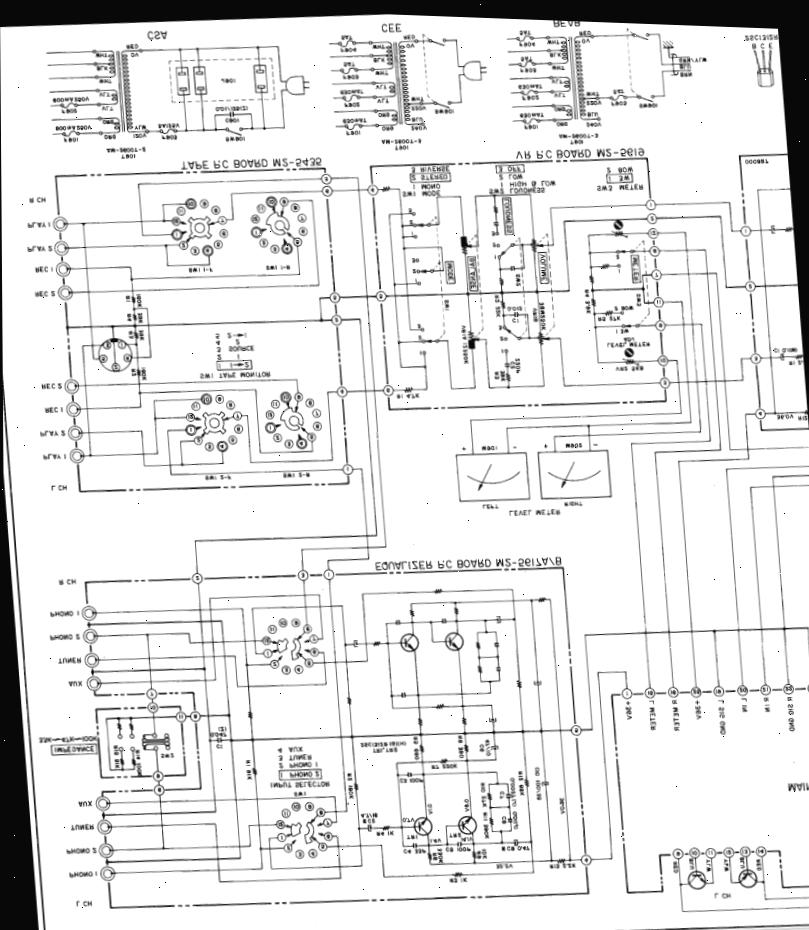compo_name: (503, 503, 564, 526), (599, 332, 648, 357), (776, 767, 809, 803), (663, 694, 686, 739), (60, 839, 101, 864), (591, 181, 644, 200), (229, 364, 274, 386), (709, 694, 732, 737), (778, 691, 800, 735), (41, 602, 81, 626), (555, 127, 602, 147), (623, 250, 646, 289), (257, 256, 296, 279), (198, 467, 236, 490), (378, 132, 421, 151), (641, 698, 661, 737), (610, 360, 647, 381), (32, 423, 69, 444), (54, 119, 92, 139), (182, 260, 216, 282), (107, 141, 148, 159), (354, 738, 400, 754), (507, 175, 559, 189), (275, 467, 313, 486), (63, 866, 101, 885), (754, 686, 775, 720), (532, 253, 551, 290), (20, 240, 55, 260), (409, 169, 450, 186), (20, 215, 53, 236), (543, 858, 579, 877), (222, 340, 260, 358), (34, 447, 68, 467), (739, 29, 778, 46), (28, 284, 59, 305), (768, 341, 802, 360), (43, 629, 80, 646), (51, 652, 83, 671), (594, 310, 626, 329), (606, 299, 638, 318), (35, 377, 65, 397), (575, 289, 595, 319), (63, 819, 96, 837), (739, 155, 772, 173), (687, 696, 706, 727), (733, 693, 753, 722), (37, 401, 66, 421), (333, 84, 365, 102), (390, 390, 423, 407), (507, 184, 547, 198), (293, 777, 330, 792), (121, 289, 145, 312), (409, 163, 451, 176), (117, 309, 147, 327), (474, 734, 494, 761), (617, 698, 636, 726), (125, 364, 149, 386), (366, 746, 401, 761), (505, 775, 520, 810), (406, 731, 422, 763), (338, 114, 368, 131), (238, 756, 255, 786), (496, 844, 532, 858), (545, 20, 581, 34), (394, 775, 425, 791), (107, 741, 123, 772), (515, 109, 546, 125), (205, 721, 229, 741), (607, 324, 635, 341), (28, 261, 54, 279), (429, 760, 460, 775), (443, 874, 470, 891), (71, 795, 95, 814), (285, 768, 320, 781), (355, 809, 380, 827), (455, 345, 473, 370), (515, 92, 543, 108), (284, 759, 318, 772), (265, 779, 292, 795), (559, 498, 586, 514), (560, 438, 587, 454), (772, 412, 800, 427), (154, 117, 182, 132), (398, 846, 426, 861), (127, 327, 147, 348), (490, 860, 516, 876), (222, 329, 248, 345), (411, 179, 443, 192), (283, 750, 315, 763), (552, 793, 567, 820), (444, 843, 471, 858), (129, 747, 145, 772), (192, 367, 215, 384), (55, 104, 81, 119), (57, 134, 81, 150), (214, 368, 238, 384), (431, 106, 456, 121), (475, 440, 500, 455), (635, 99, 660, 114), (781, 356, 804, 372), (220, 134, 246, 148), (535, 302, 548, 330), (377, 24, 403, 38), (159, 729, 174, 753), (396, 187, 420, 202), (580, 118, 604, 133), (417, 189, 441, 204), (428, 844, 444, 866), (604, 99, 629, 113), (513, 38, 538, 52), (283, 743, 306, 758), (801, 690, 809, 733), (371, 830, 397, 843), (335, 44, 359, 58), (477, 502, 501, 516), (457, 794, 471, 818), (507, 809, 521, 833), (25, 193, 49, 207), (46, 481, 68, 496), (454, 732, 466, 759), (340, 128, 363, 142), (96, 131, 119, 145), (518, 122, 541, 136), (516, 769, 527, 798), (488, 371, 509, 386), (338, 100, 362, 113), (405, 123, 429, 136), (337, 71, 361, 84), (510, 270, 524, 292), (401, 113, 423, 127), (572, 26, 594, 40), (337, 58, 359, 72), (78, 731, 98, 746), (156, 134, 179, 147), (115, 153, 138, 166), (107, 689, 128, 703), (630, 291, 644, 312), (345, 771, 355, 800), (156, 752, 178, 765), (127, 130, 149, 143), (389, 143, 411, 156), (607, 84, 626, 99), (455, 320, 469, 340), (509, 354, 523, 374), (57, 732, 77, 746), (527, 304, 539, 327), (399, 31, 420, 44), (488, 294, 503, 312), (35, 732, 53, 747), (119, 40, 141, 52), (404, 104, 426, 116), (503, 164, 527, 175), (98, 102, 118, 115), (531, 778, 547, 794), (228, 103, 249, 115), (207, 742, 228, 754), (423, 798, 434, 820), (504, 171, 526, 182), (128, 123, 148, 135), (504, 303, 524, 315), (93, 62, 113, 74), (90, 49, 110, 61), (218, 75, 238, 87), (480, 821, 492, 841), (97, 88, 114, 102), (164, 687, 182, 700), (455, 834, 474, 846), (406, 93, 425, 105), (582, 99, 601, 111), (401, 833, 418, 846), (126, 50, 143, 63), (674, 71, 694, 82), (94, 76, 114, 87), (426, 835, 444, 847), (530, 793, 546, 806), (472, 847, 489, 859), (493, 334, 510, 346), (496, 813, 509, 828), (494, 788, 507, 803), (398, 814, 414, 826), (486, 241, 502, 253), (445, 832, 462, 843), (98, 117, 115, 128), (211, 105, 228, 115), (756, 66, 771, 77)
